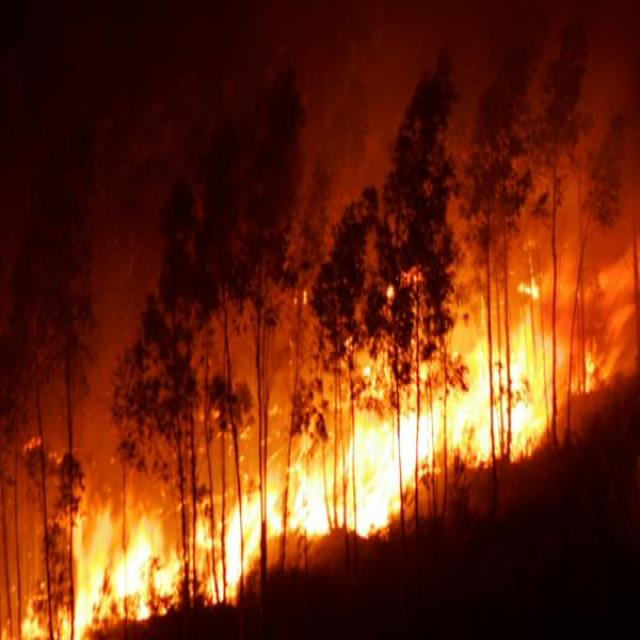Fire: (0, 281, 640, 639)
Smoke: (0, 1, 640, 484)
